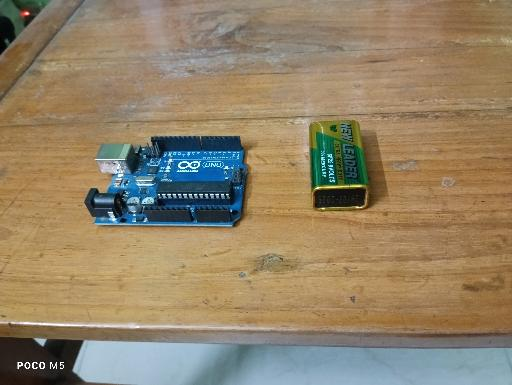Arduino: (84, 135, 248, 228)
Battery: (309, 120, 369, 212)
